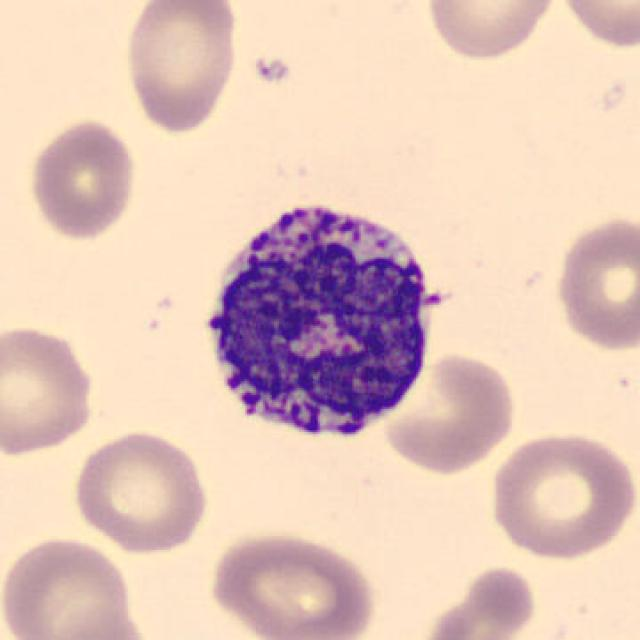basophil: (200, 187, 439, 431)
rbc: (487, 426, 640, 564), (215, 528, 397, 640), (382, 347, 516, 468), (77, 429, 213, 546), (121, 0, 240, 130), (0, 304, 92, 455), (547, 202, 640, 342), (0, 538, 126, 638), (416, 562, 572, 640), (34, 122, 140, 234), (421, 0, 551, 58), (560, 0, 640, 58), (51, 608, 145, 640)
